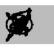not correct: (4, 7, 34, 42)
